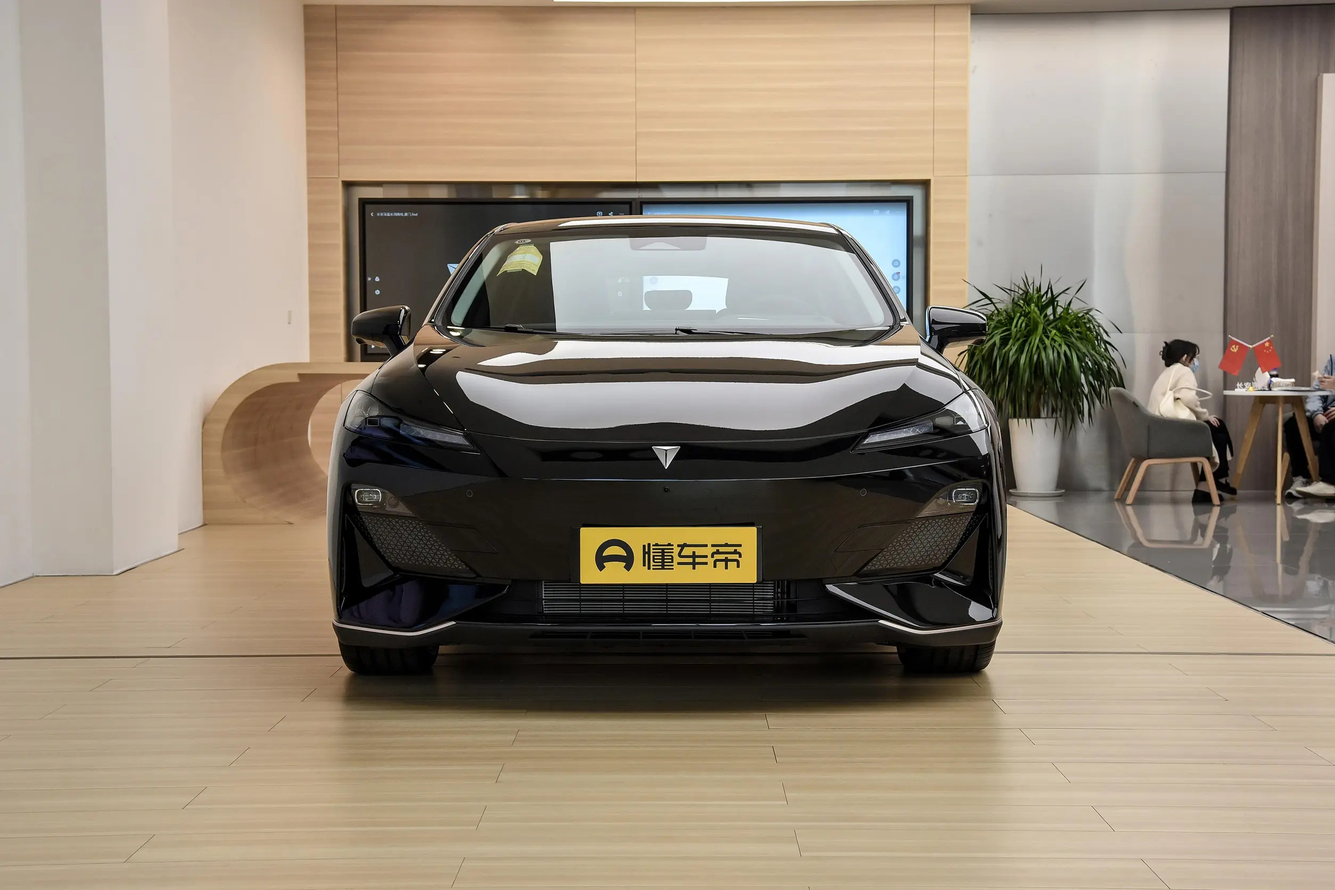Deepal: (652, 447, 679, 469)
